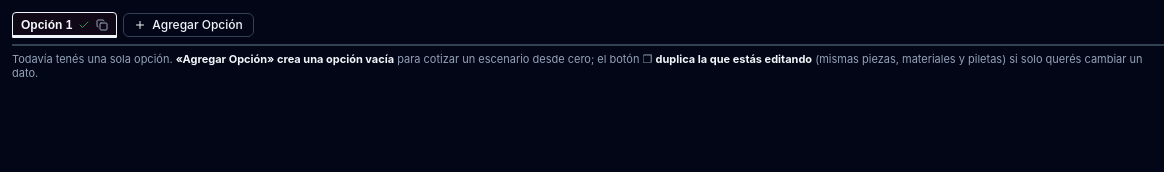
Test: BudgetOptionsTabs — always visible › clicking "Agregar Opción" on a new budget creates Opción 1 + Opción 2
This screenshot has width=1164, height=172.
Check: the text "Opción 2" is not shown
Click the button "Agregar Opción".
click(188, 25)  # box [123,13,254,37]
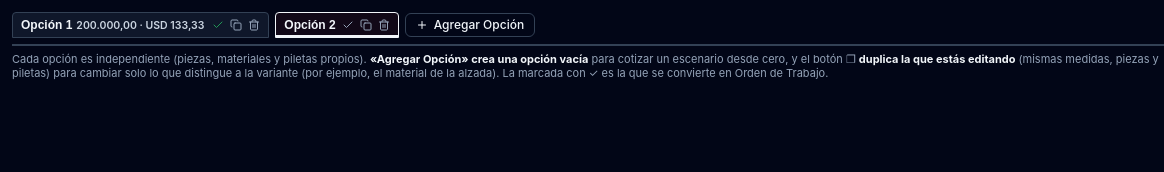
Check: the button "Opción 1" is shown, box [19,18,74,32]
Check: the button "Opción 2" is shown, box [282,18,338,32]
